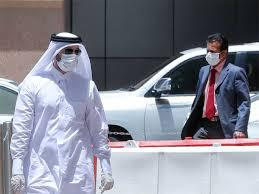Person: (12, 26, 113, 194), (192, 36, 252, 136)
